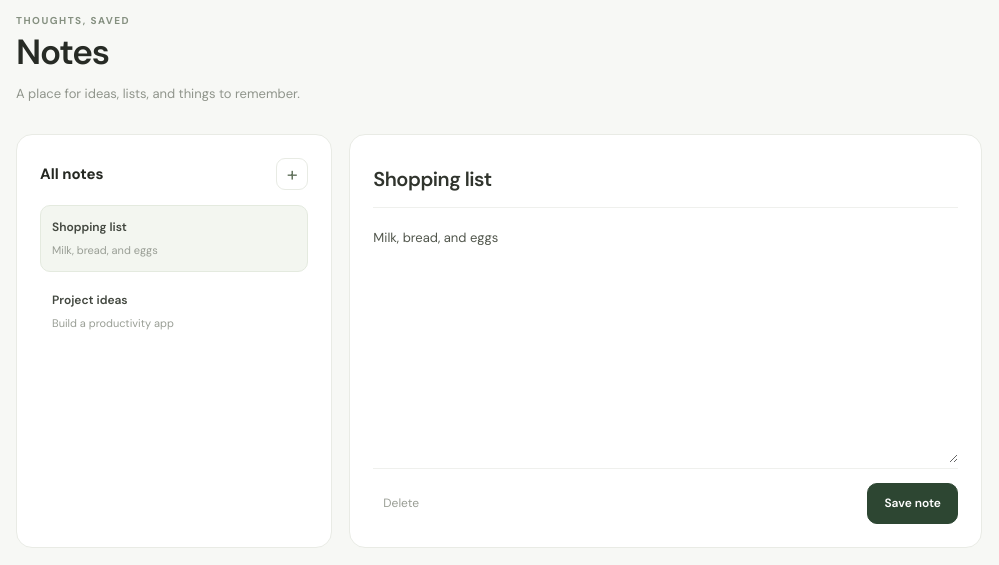
Test: Notes page › creates a new note from the list button
Check: the field named "Note title" is shown, box [373,158,958,208]
What coordinates should you click on to do the following:
click the button named "Create note"
I would click on:
 (292, 174)
Its box is [276,158,308,190].
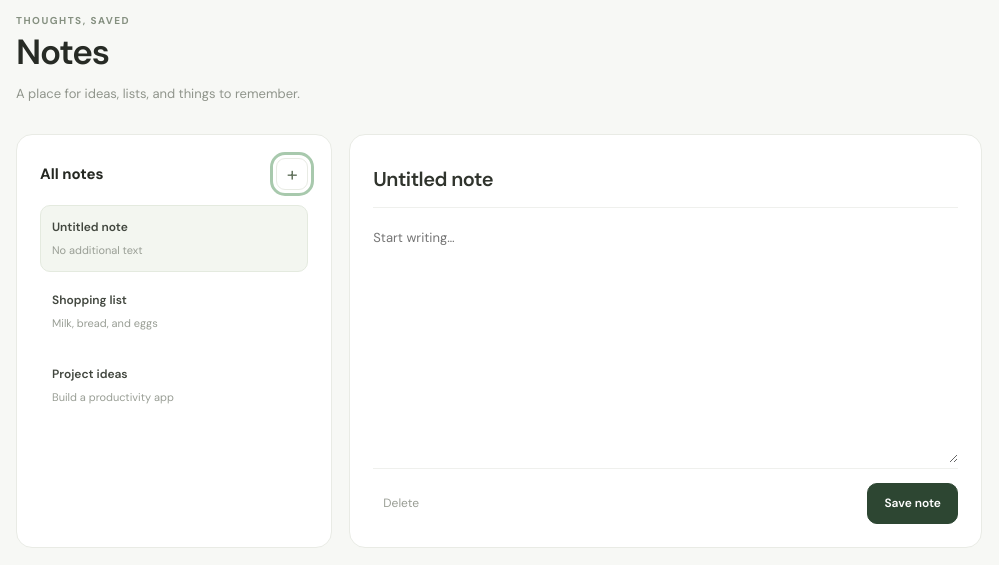
Check: the field named "Note title" holds "Untitled note", box [373,158,958,208]
Check: the text box named "Note content" is empty, box [373,208,958,463]
